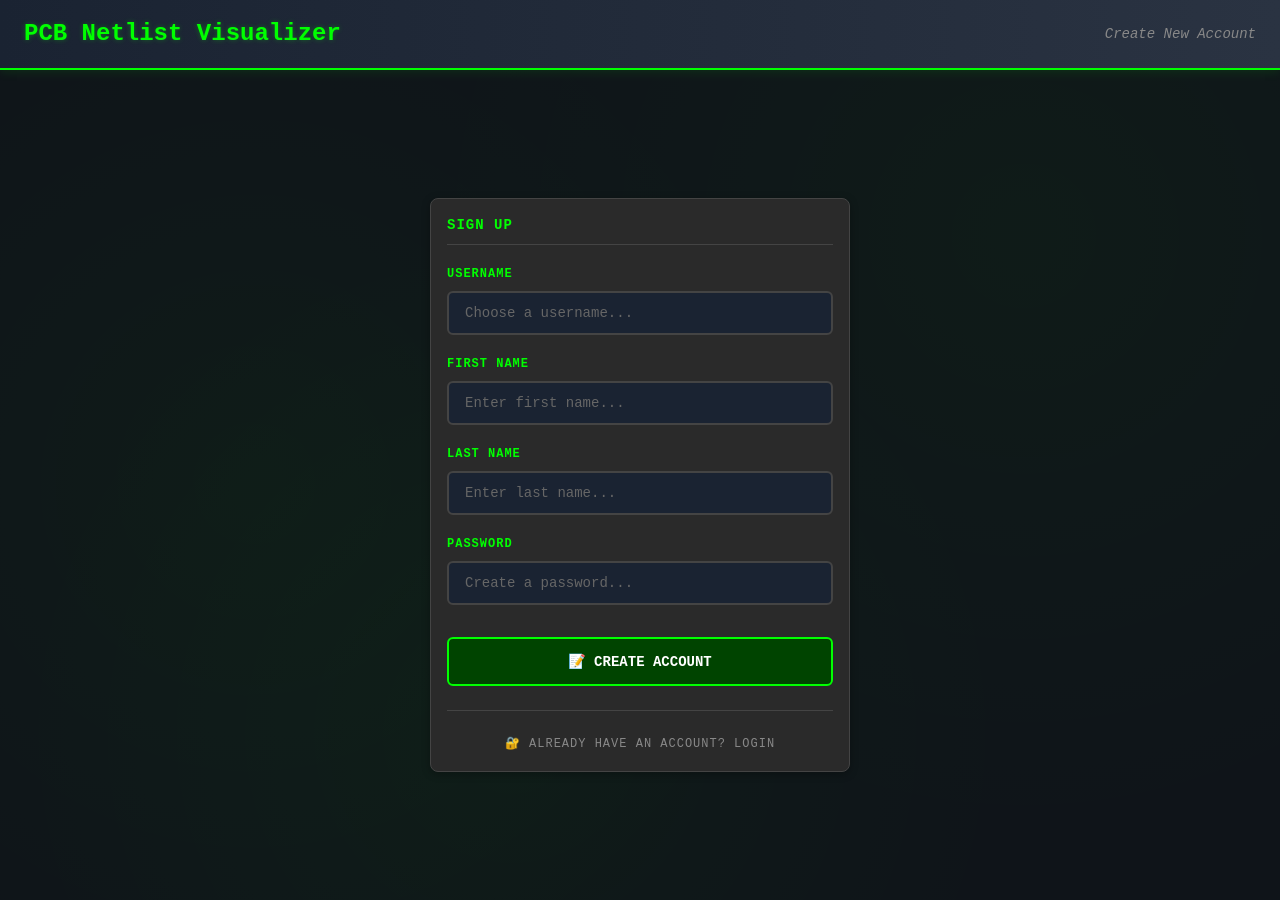
Test: SignUpPage › should display success message on successful registration
Step 1. Type "testuser" into the field labelled "Username" → (640, 313), box [447,291,833,335]
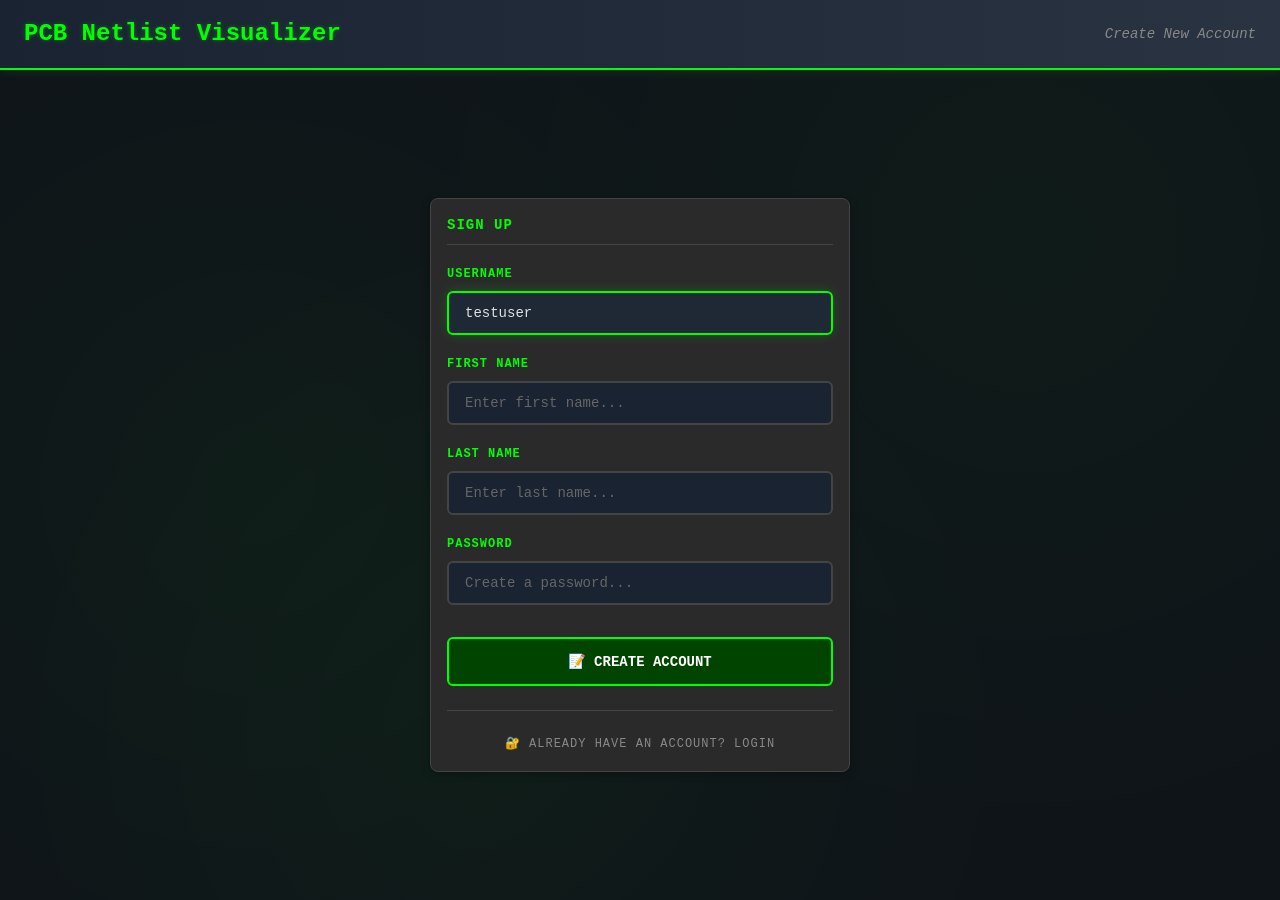
Step 2. Type "John" into the field labelled "First Name" → (640, 403), box [447,381,833,425]
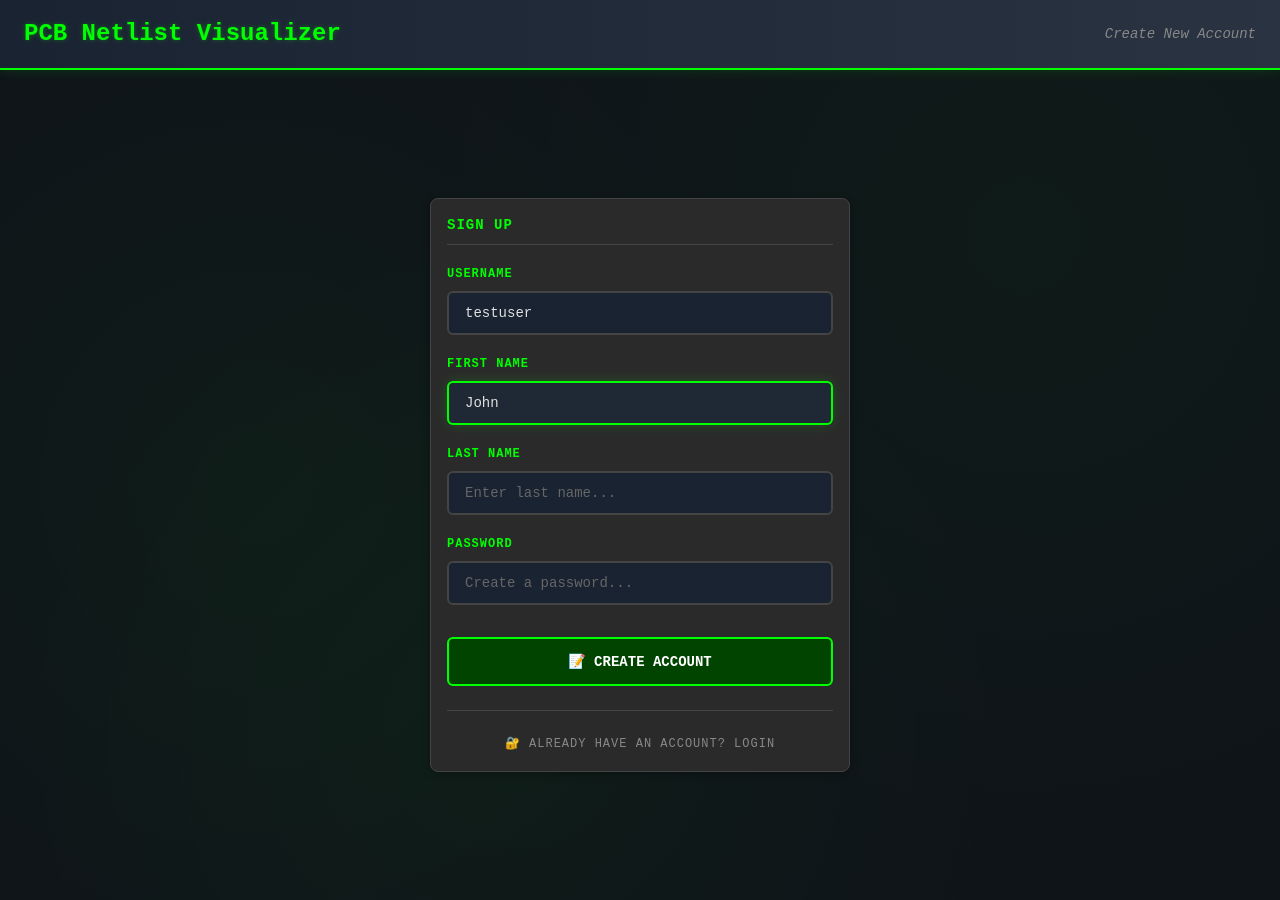
Step 3. Type "Doe" into the field labelled "Last Name" → (640, 493), box [447,471,833,515]
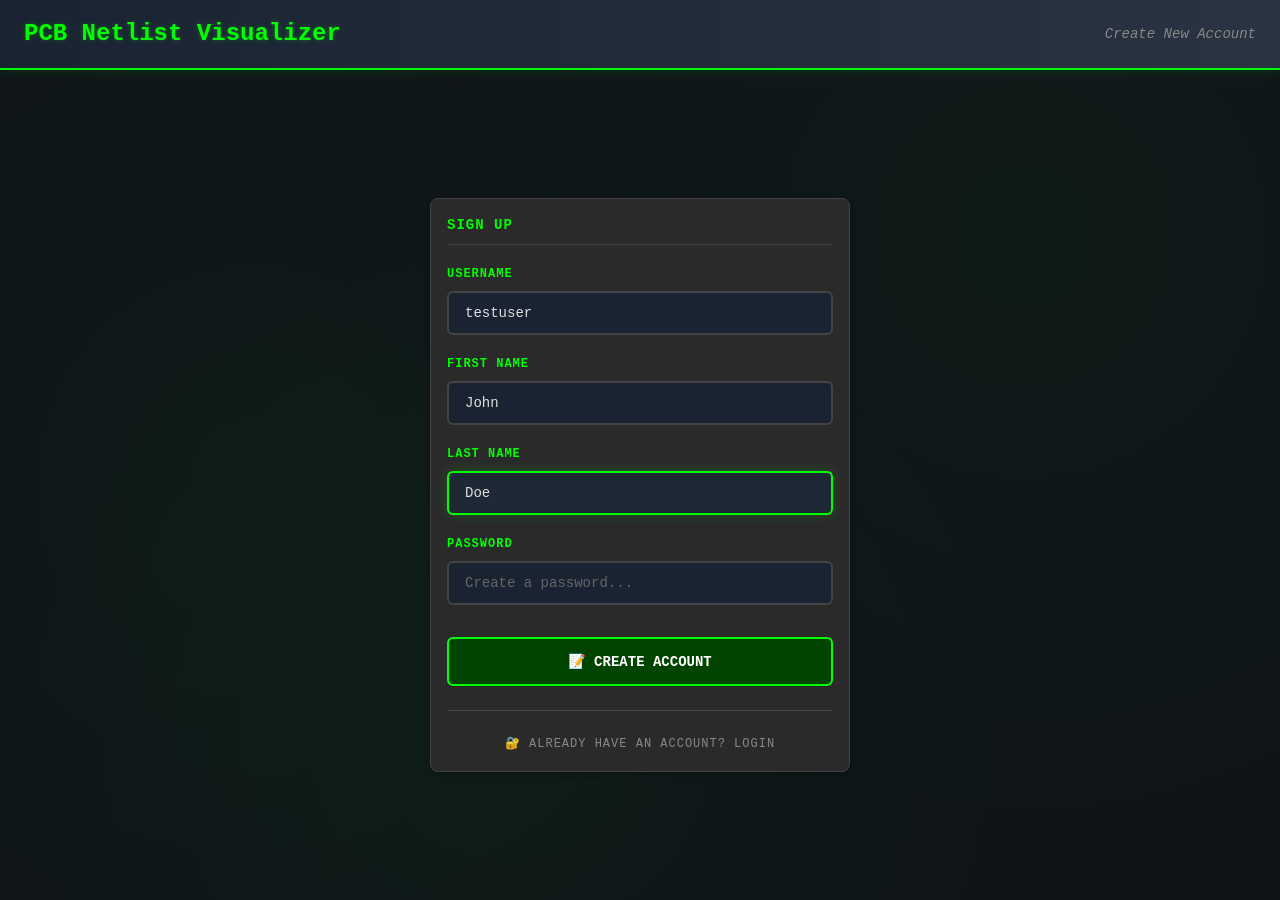
Step 4. Type "testpass" into the password field labelled "Password" → (640, 583), box [447,561,833,605]
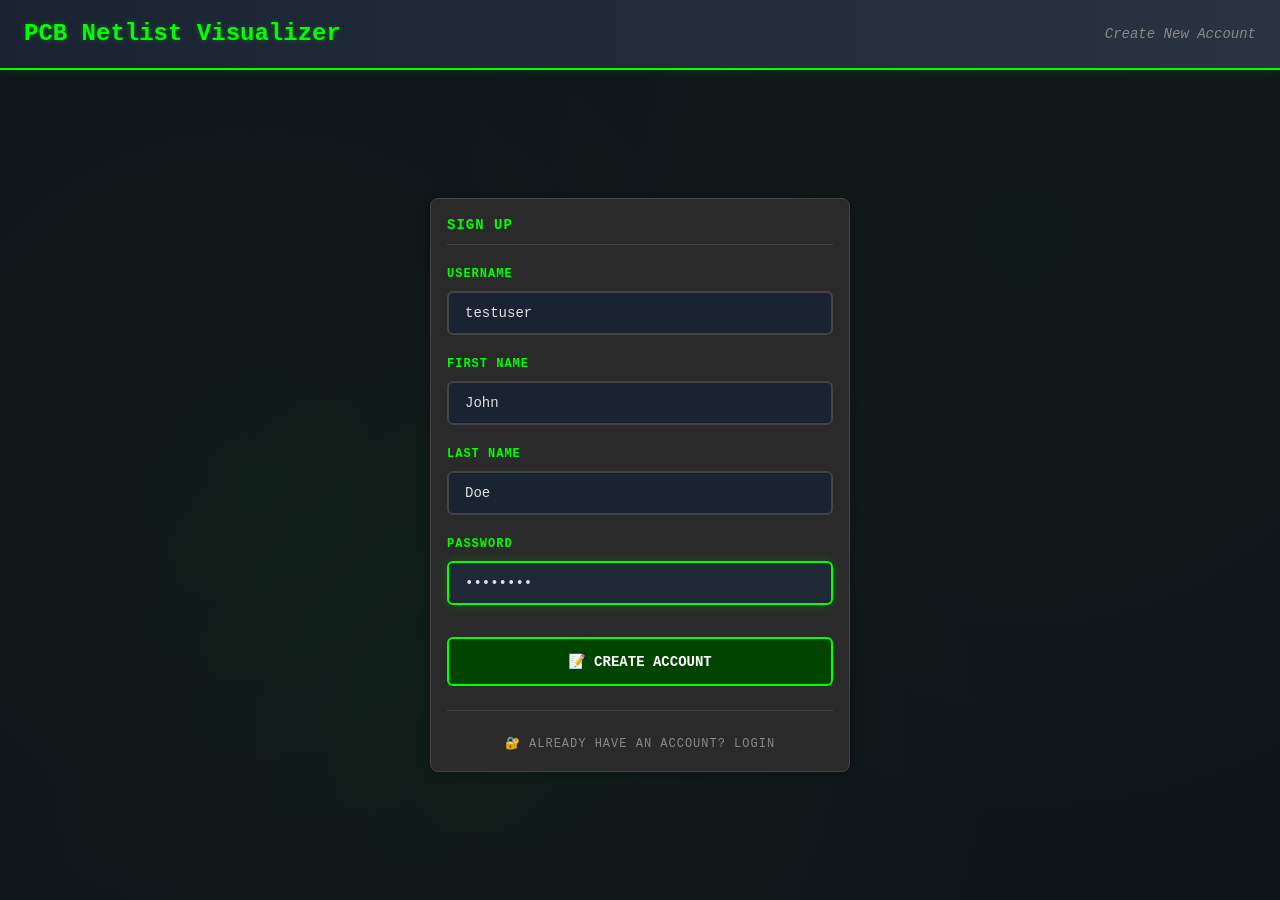
Step 5. Click the button "📝 Create Account" → (640, 662), box [447,637,833,686]
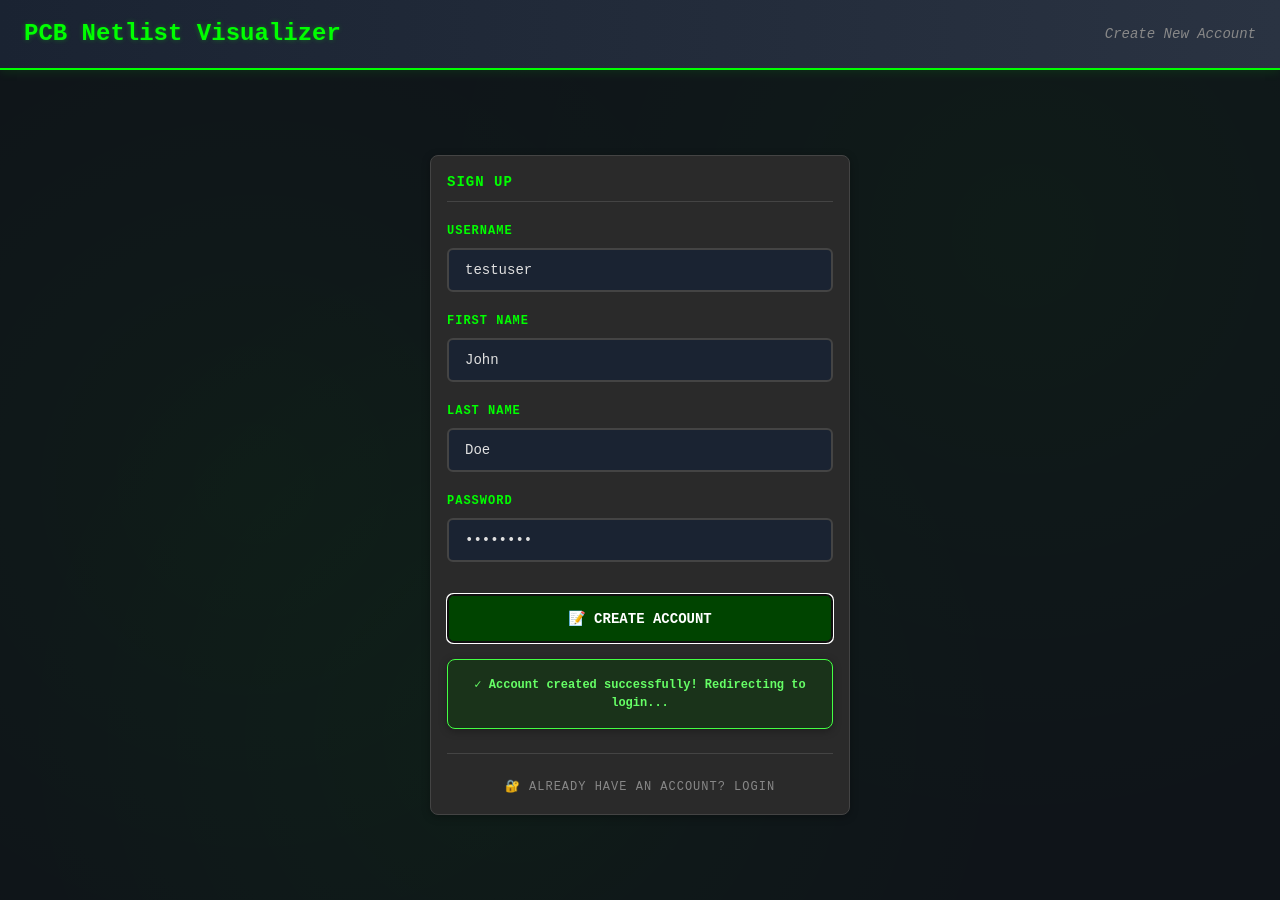
Expected: the text "✓ Account created successfully! Redirecting to login..." is shown, [464,676,816,712]
